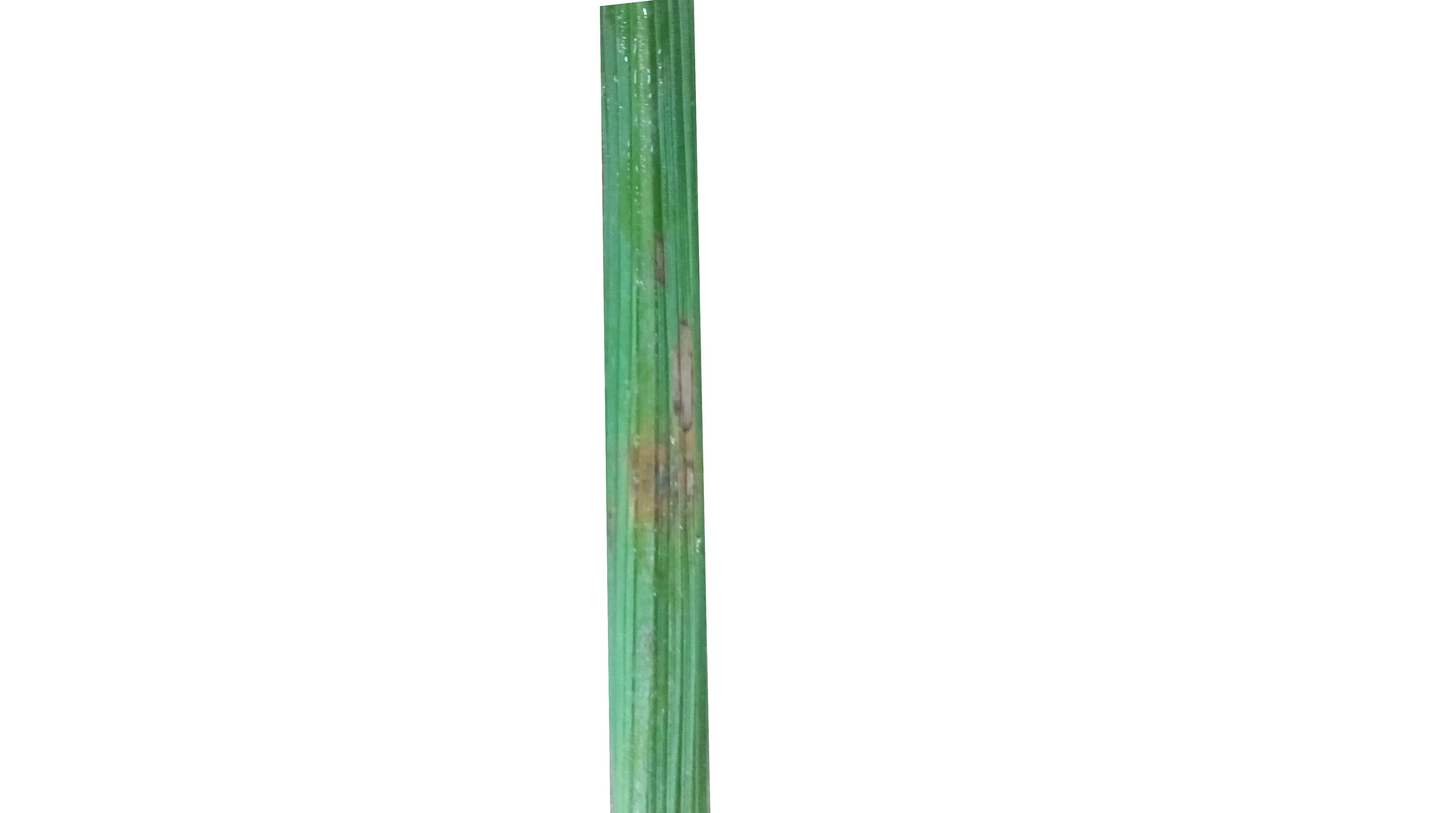Rice blast: (632, 313, 697, 557), (649, 236, 667, 292)
